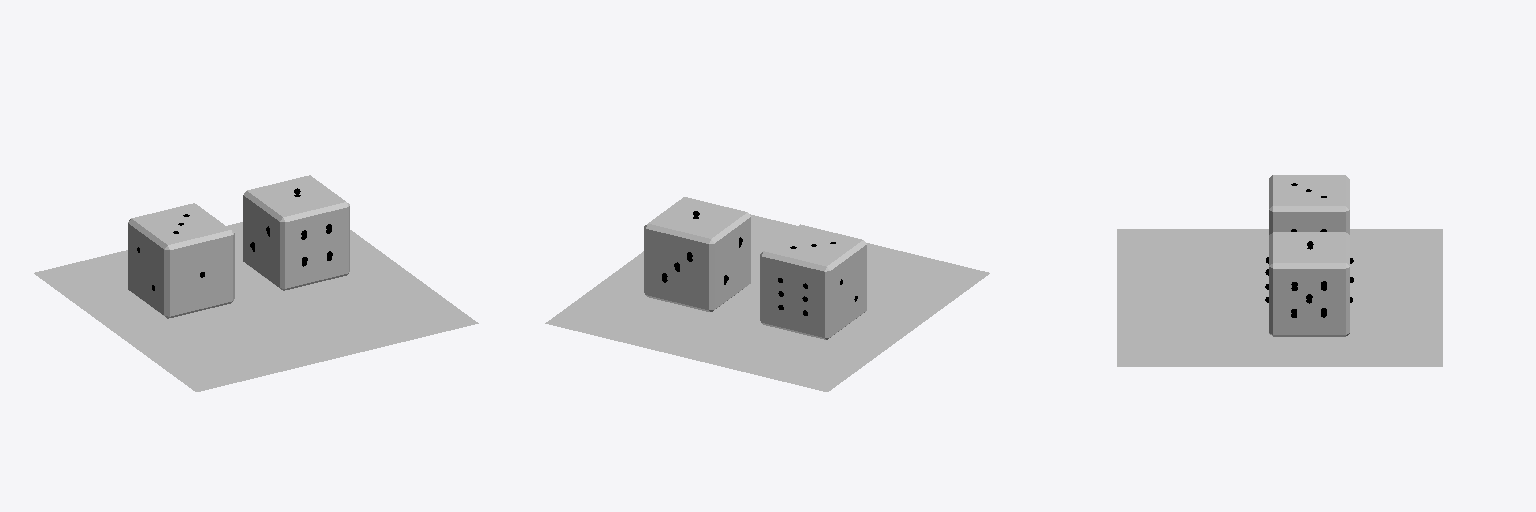
Rendered from Dice.obj.
3 views of the same model, side by side, from view 1: azimuth 30°, elevation 25°; view 2: azimuth 150°, elevation 25°; view 3: azimuth 270°, elevation 25° (orthographic).
Parts seen in each view (by area): view 1: Plane, die1.001_Cube, die1_Cube; view 2: Plane, die1.001_Cube, die1_Cube; view 3: Plane, die1_Cube, die1.001_Cube.
Part boxes in pixels (bbox=[...]): Plane: bbox=[34, 222, 478, 391]; die1.001_Cube: bbox=[128, 203, 234, 318]; die1_Cube: bbox=[243, 175, 349, 290]; Plane: bbox=[545, 214, 989, 391]; die1.001_Cube: bbox=[760, 224, 866, 339]; die1_Cube: bbox=[644, 197, 750, 311]; Plane: bbox=[1117, 229, 1442, 366]; die1_Cube: bbox=[1269, 232, 1349, 336]; die1.001_Cube: bbox=[1269, 175, 1349, 234].
Bounding box in the file's own units: 8.03 × 2.3 × 8.03.